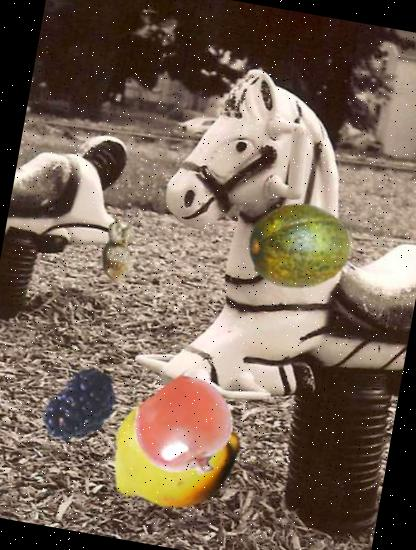Ginger: (81, 212, 156, 287)
Melon: (239, 186, 358, 303)
Mulberry: (33, 359, 127, 453)
Quince: (94, 368, 254, 528)
Redcurrant: (128, 372, 244, 488)
